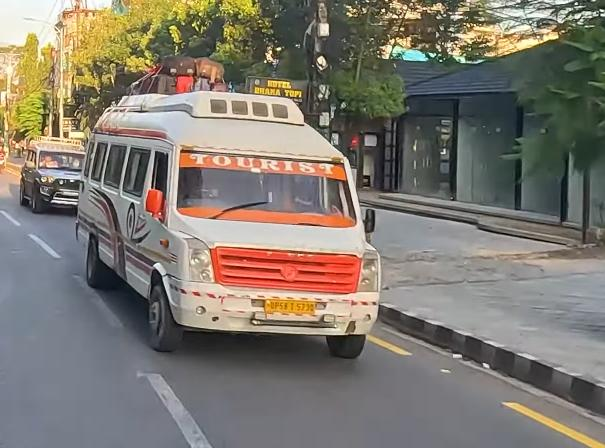SUV: (14, 134, 95, 217)
micro_bus: (72, 73, 384, 358)
